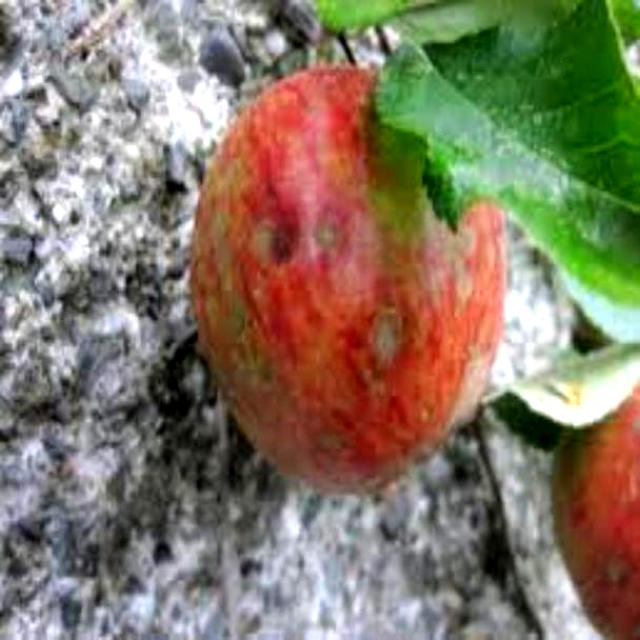BLOTCH: (177, 56, 518, 476)
